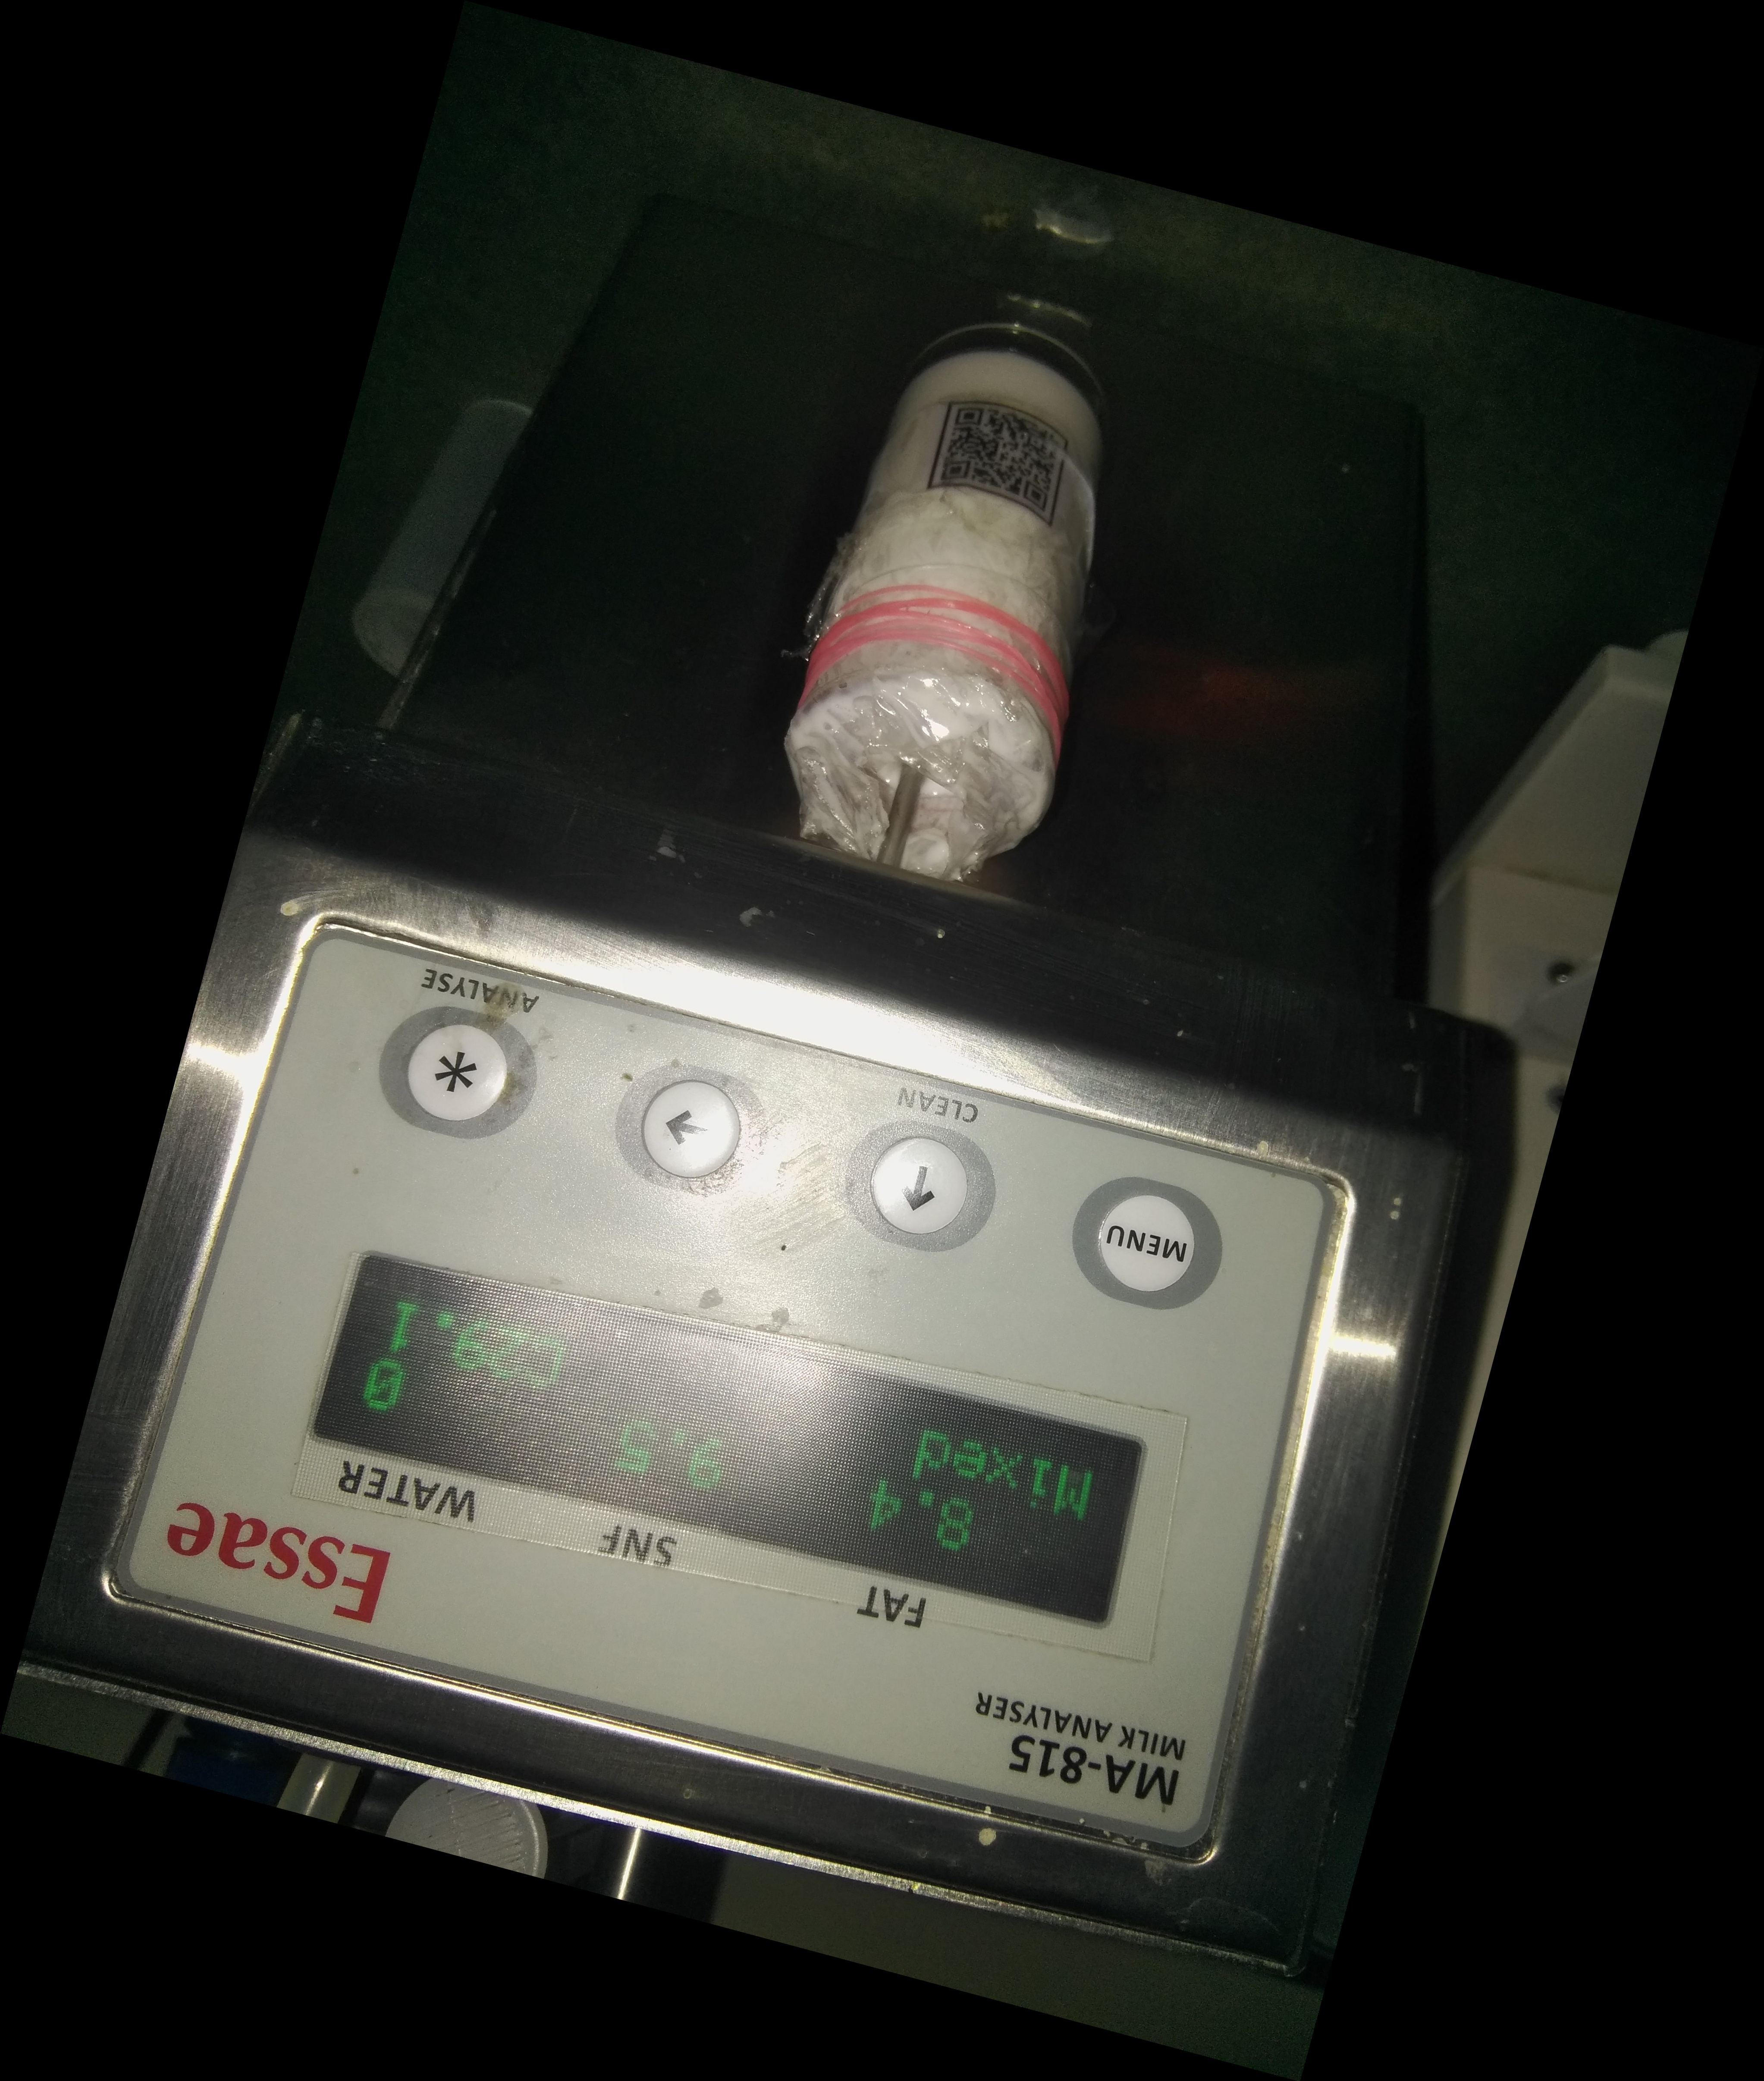lcd: (292, 1243, 1158, 1717)
qr: (920, 394, 1080, 532)
